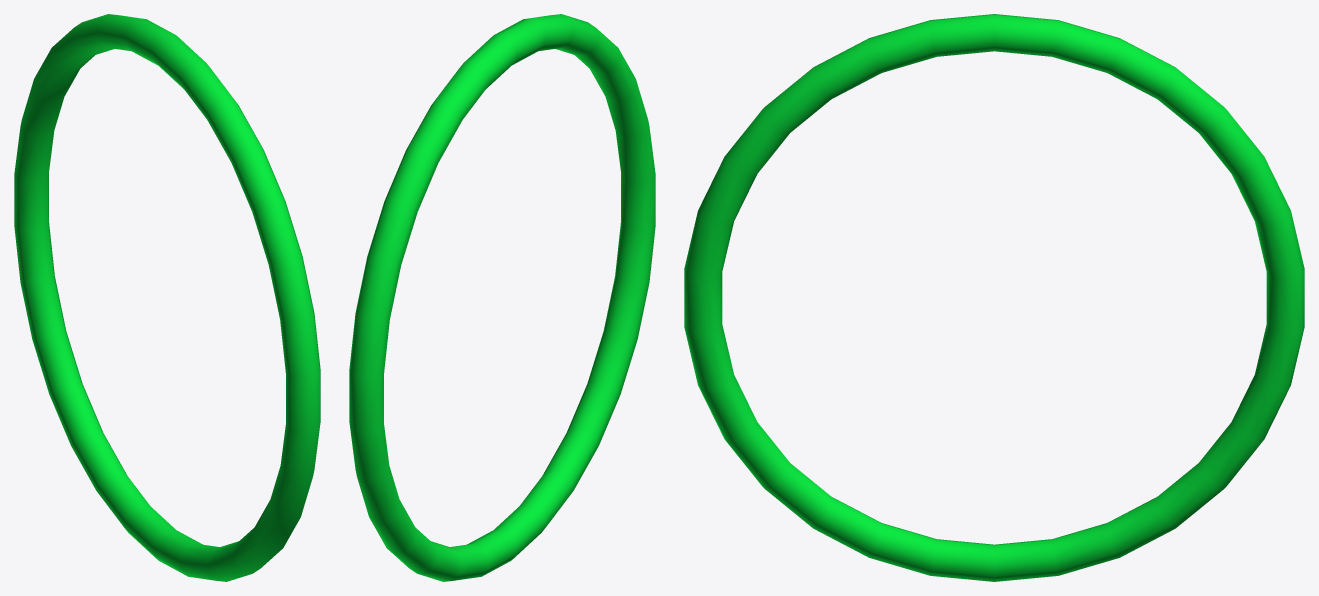
Rendered from Pipe_Ring_360.fbx.
The picture shows the model from 3 angles, left to right: view 1: azimuth 30°, elevation 25°; view 2: azimuth 150°, elevation 25°; view 3: azimuth 270°, elevation 25°; orthographic projection. The views are drawn at different scales.
Parts seen in each view (by area): view 1: Pipe_Ring_360; view 2: Pipe_Ring_360; view 3: Pipe_Ring_360.
Boxes of the visible parts, x1,y1,x2,y2 form: Pipe_Ring_360: [14, 14, 320, 581]; Pipe_Ring_360: [349, 14, 655, 581]; Pipe_Ring_360: [684, 14, 1304, 581].
Bounding box in the file's own units: 0.2254 × 3.88 × 3.86.
